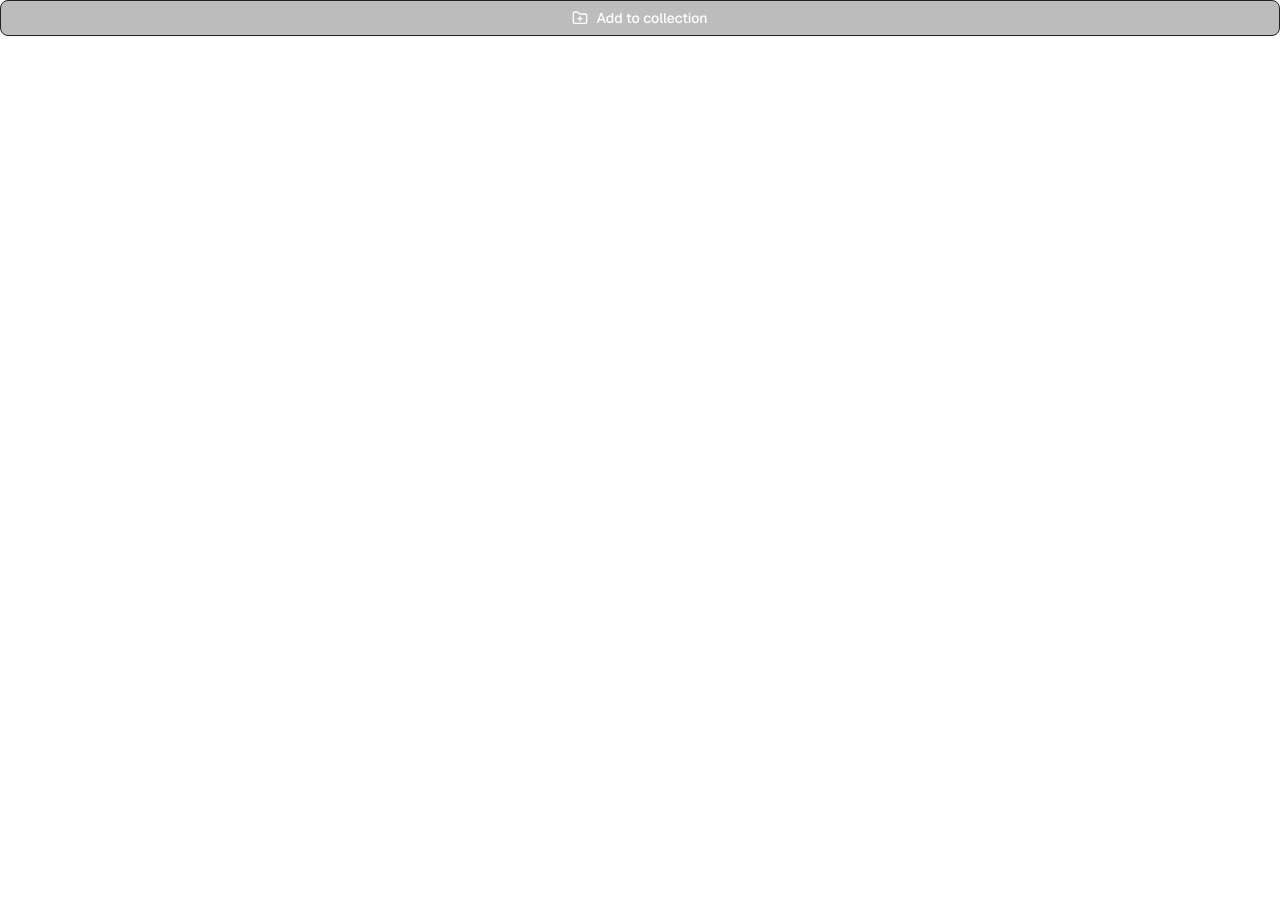
Test: AddToCollectionPopover › adds the model to a collection it is not in
What coordinates should you click on to do the following:
click the button "Add to collection"
I would click on:
 (640, 18)
Its box is [0,0,1279,36].
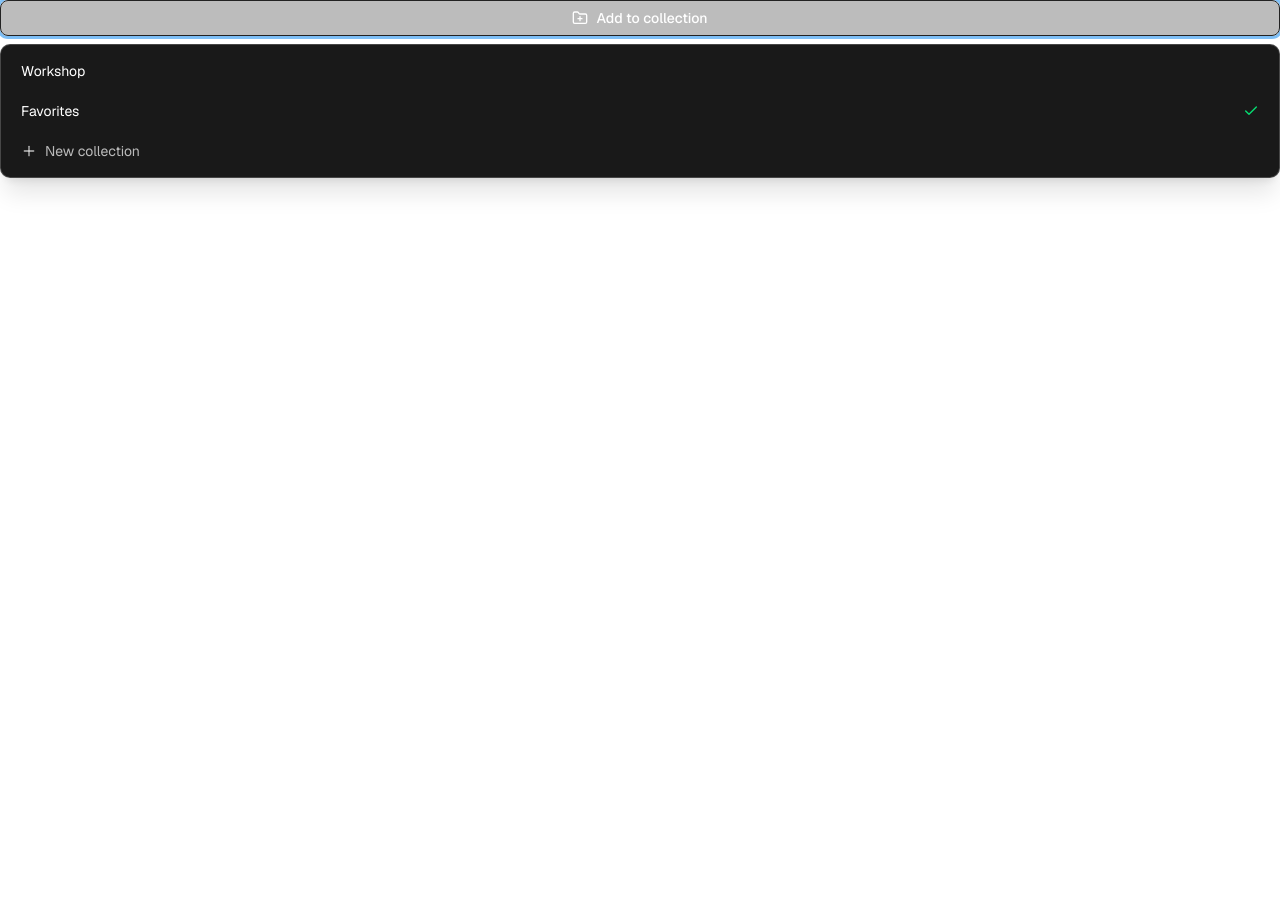
What coordinates should you click on to do the following:
click the button "Workshop"
I would click on:
 (53, 71)
Its box is [9,53,1271,89].
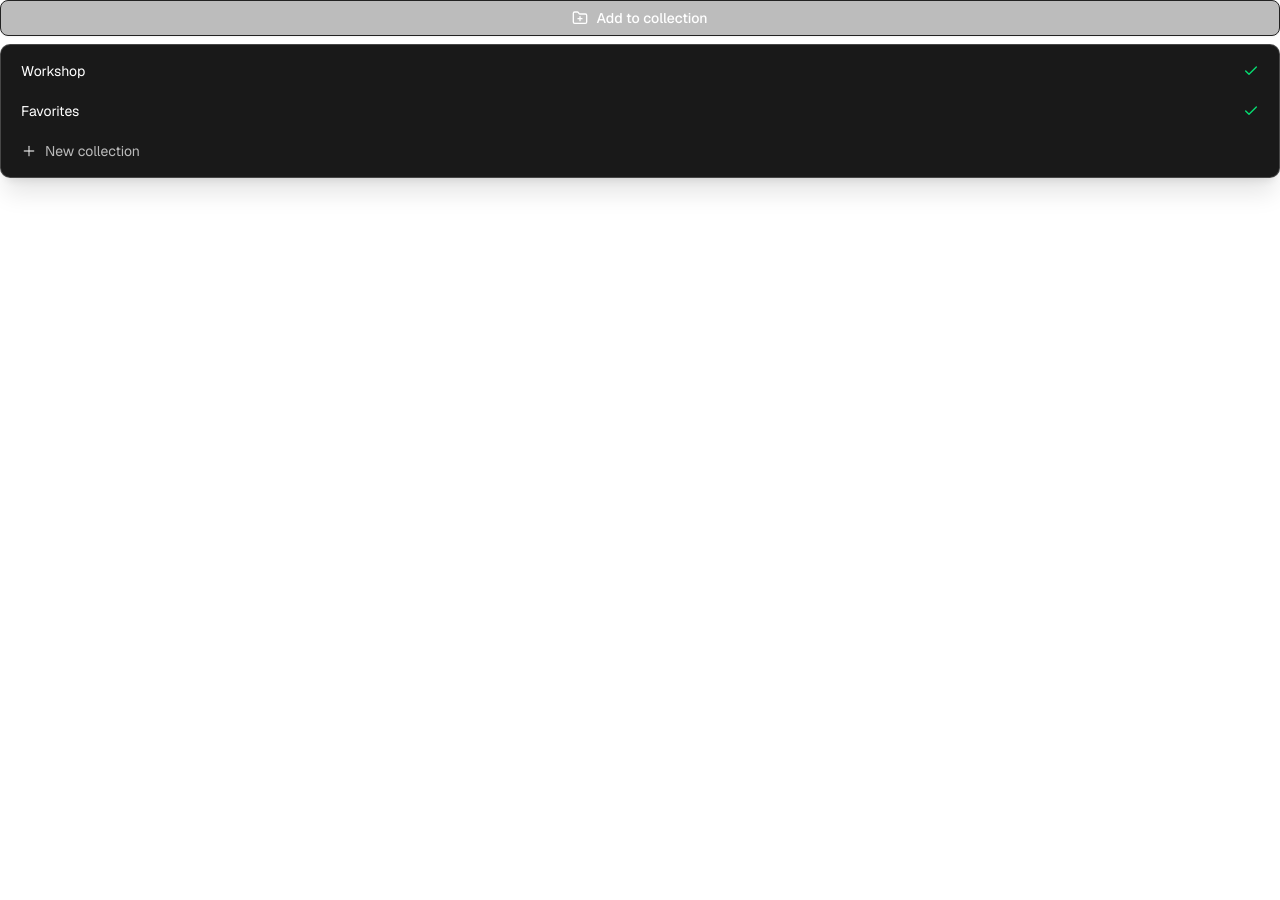
Now the button "Workshop" is pressed, box [9,53,1271,89]
